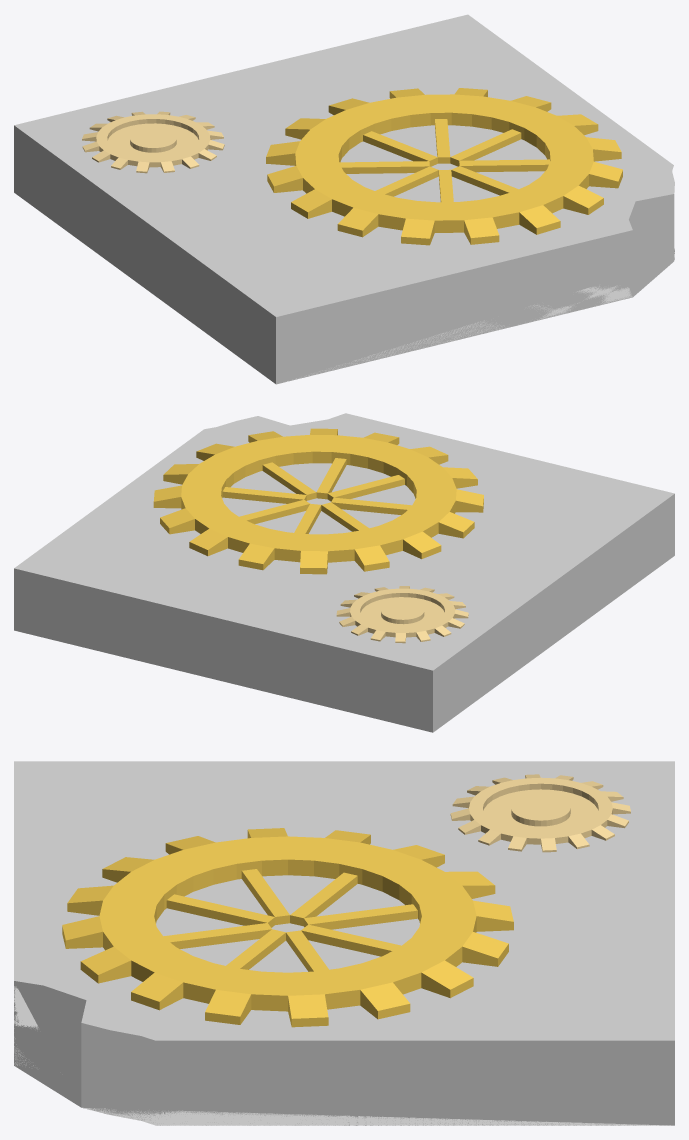
Rendered from Tile.fbx.
The picture shows the model from 3 angles, top to bottom: view 1: azimuth 30°, elevation 25°; view 2: azimuth 150°, elevation 25°; view 3: azimuth 270°, elevation 25°; orthographic projection. The views are drawn at different scales.
Parts seen in each view (by area): view 1: Cube, Cylinder, gearA; view 2: Cube, Cylinder, gearA; view 3: Cube, Cylinder, gearA.
Part boxes in pixels (box(x1,y1,x2,y2)): Cube: box(14, 14, 674, 384); Cylinder: box(266, 88, 622, 245); gearA: box(82, 111, 224, 173); Cube: box(14, 413, 674, 732); Cylinder: box(153, 428, 483, 574); gearA: box(336, 586, 468, 643); Cube: box(14, 761, 674, 1125); Cylinder: box(62, 828, 513, 1027); gearA: box(450, 774, 630, 852).
Size of the model in its own units: 200 by 33.59 by 200.
